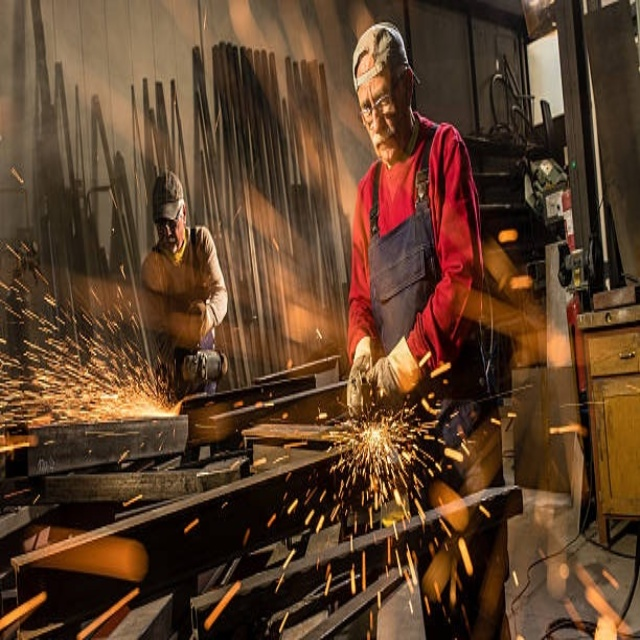Gafas: (360, 73, 399, 125)
Guantes: (367, 335, 419, 420), (344, 329, 373, 419)
Sin_mascara: (371, 123, 399, 164)
